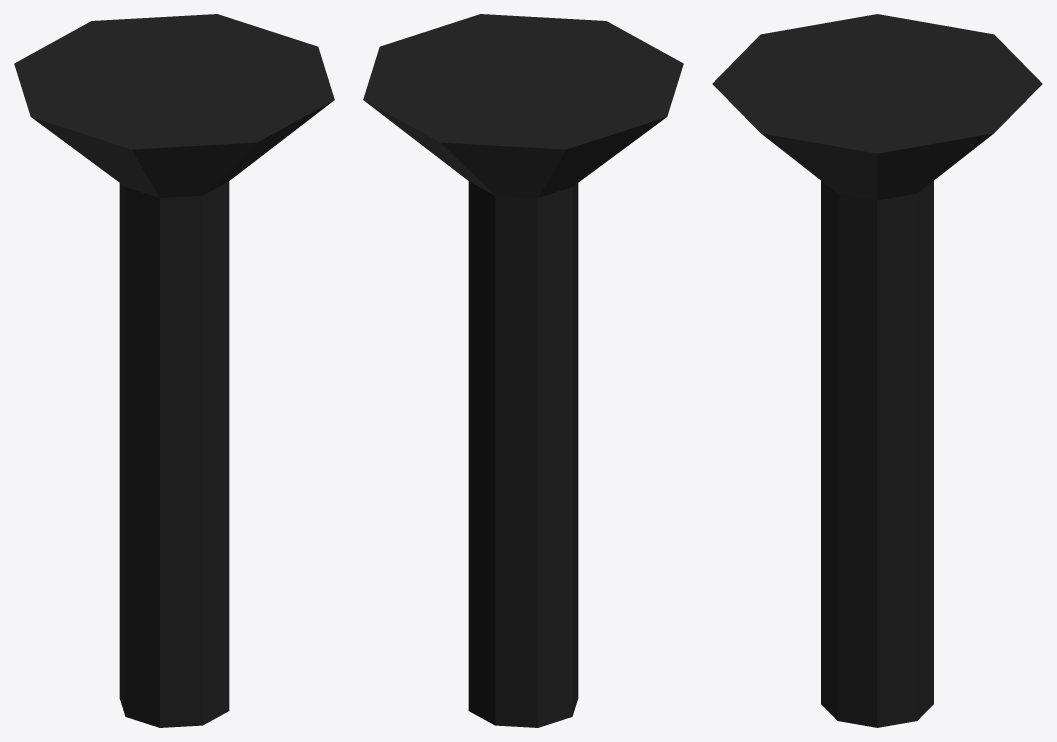
Rendered from exhaust2.glb.
3 renders of one model, left to right at view 1: azimuth 30°, elevation 25°; view 2: azimuth 150°, elevation 25°; view 3: azimuth 270°, elevation 25°, orthographic.
Parts seen in each view (by area): view 1: exhaust2; view 2: exhaust2; view 3: exhaust2.
Part boxes in pixels (bbox=[...]): exhaust2: bbox=[14, 14, 334, 727]; exhaust2: bbox=[363, 14, 683, 727]; exhaust2: bbox=[712, 14, 1042, 727].
Size of the model in its own units: 0.8654 by 1.79 by 0.8654.
Materials: 1 (1 with a texture image).
